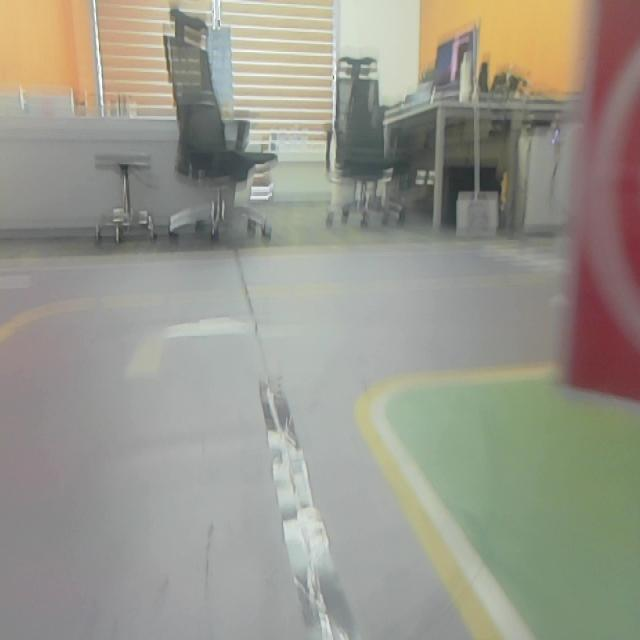left_lane: (0, 310, 34, 344)
right_lane: (356, 403, 538, 640)
